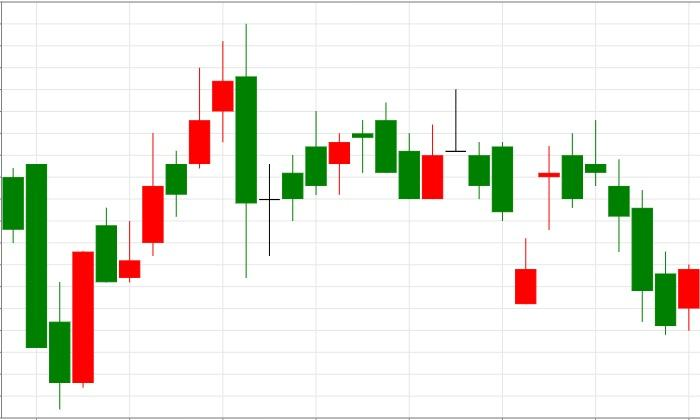bearish_engulfing_fall: (49, 24, 258, 409)
bullish_engulfing_rise: (351, 102, 444, 200)
